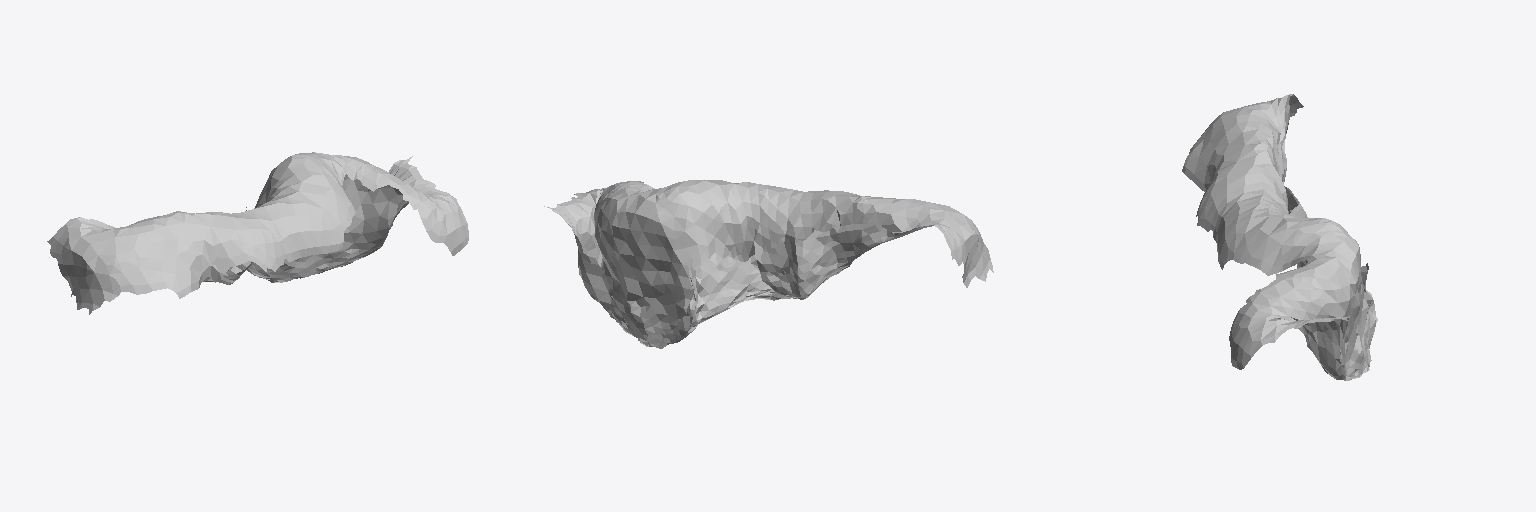
File: L_cingulate_midposterior-Wernickes.obj
The picture shows the model from 3 angles: view 1: azimuth 30°, elevation 25°; view 2: azimuth 150°, elevation 25°; view 3: azimuth 270°, elevation 25°; orthographic projection.
Visible parts, largest first — view 1: L_cingulate_midposterior-Wernicke's_R_cingulate_midposterior; view 2: L_cingulate_midposterior-Wernicke's_R_cingulate_midposterior; view 3: L_cingulate_midposterior-Wernicke's_R_cingulate_midposterior.
Part boxes in pixels (left/top/right/bottom): L_cingulate_midposterior-Wernicke's_R_cingulate_midposterior: left=47, top=152, right=468, bottom=314; L_cingulate_midposterior-Wernicke's_R_cingulate_midposterior: left=544, top=180, right=993, bottom=348; L_cingulate_midposterior-Wernicke's_R_cingulate_midposterior: left=1182, top=94, right=1377, bottom=380.
Size of the model in its own units: 150 by 55.36 by 64.29.